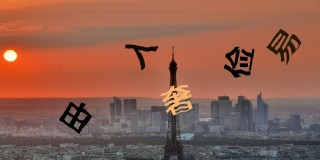俭: (222, 46, 254, 77)
入: (123, 42, 160, 71)
奢: (161, 84, 194, 117)
易: (267, 28, 302, 64)
由: (58, 101, 92, 134)
